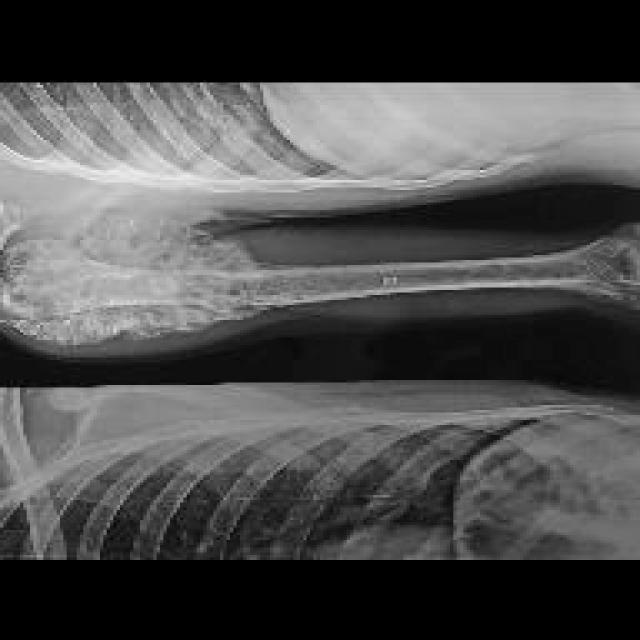bone-cancer: (2, 218, 267, 343)
